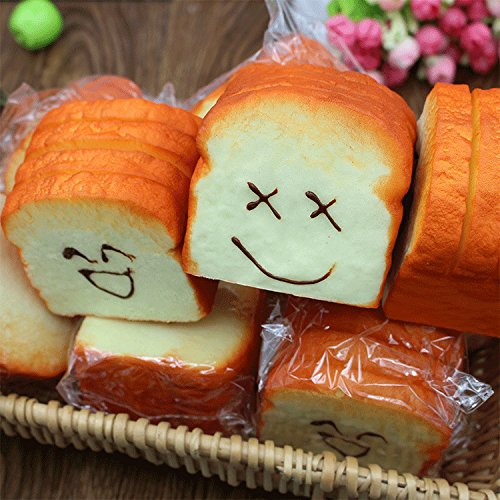slice of bread: (192, 62, 403, 319), (20, 94, 214, 327), (407, 76, 500, 341)
